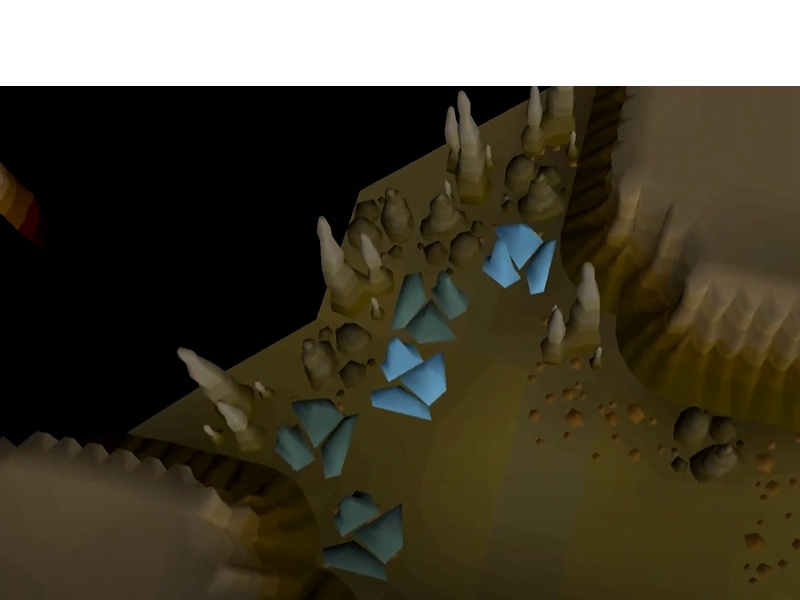adamant: (317, 487, 409, 585), (272, 393, 362, 484), (388, 268, 473, 349)
rune: (367, 333, 453, 425), (479, 222, 560, 299)
